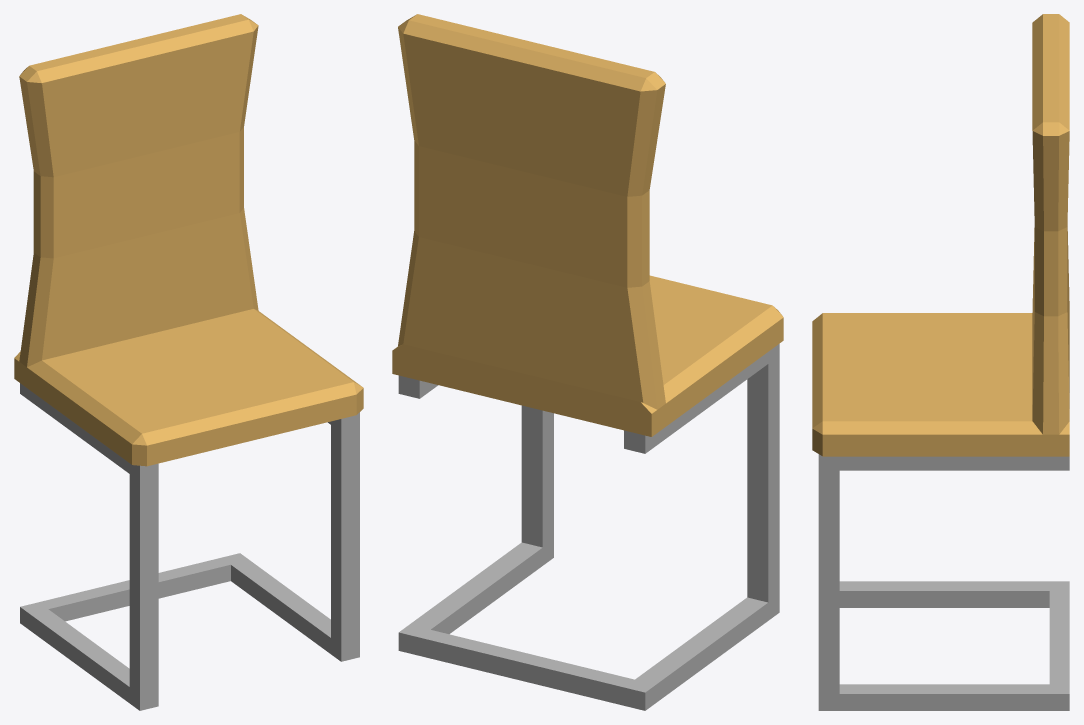
The model's file is chaise1.fbx.
The picture shows the model from 3 angles, left to right: view 1: azimuth 30°, elevation 25°; view 2: azimuth 150°, elevation 25°; view 3: azimuth 270°, elevation 25°; orthographic projection. The views are drawn at different scales.
Parts seen in each view (by area): view 1: Cube.008; view 2: Cube.008; view 3: Cube.008.
Boxes of the visible parts, box(x1,y1,x2,y2) form: Cube.008: box(14, 14, 363, 710); Cube.008: box(392, 14, 783, 710); Cube.008: box(812, 14, 1069, 710).
Size of the model in its own units: 194 by 447 by 178.
